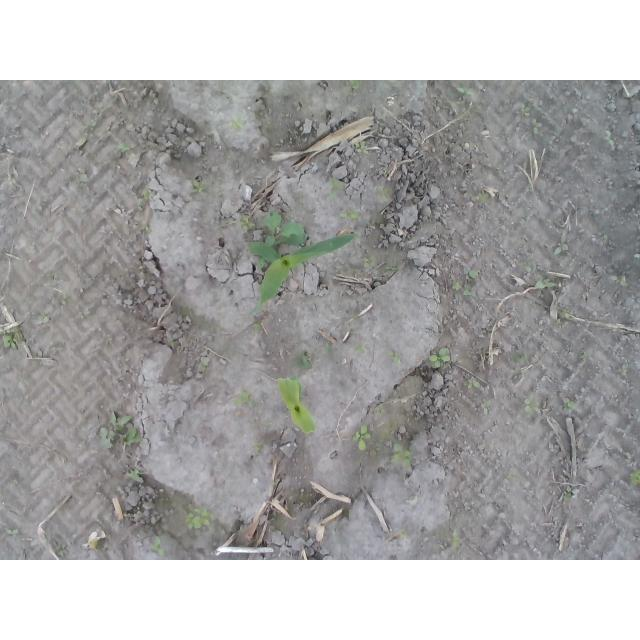Maize: (249, 231, 359, 316), (275, 375, 317, 434)
Weeds: (258, 208, 311, 275), (100, 410, 142, 451), (183, 503, 217, 529), (0, 329, 24, 352), (327, 174, 345, 203), (429, 347, 451, 370), (393, 442, 411, 470), (352, 423, 370, 451), (232, 388, 256, 408), (336, 207, 361, 223), (151, 535, 167, 557), (551, 239, 570, 257), (295, 351, 313, 370), (457, 80, 475, 97), (520, 398, 537, 416), (239, 215, 256, 232), (609, 272, 627, 288), (375, 185, 393, 200), (463, 378, 481, 393), (387, 351, 402, 369), (192, 177, 209, 192), (535, 276, 554, 289), (126, 465, 142, 480), (560, 399, 577, 413), (449, 532, 463, 549), (628, 468, 640, 487), (464, 268, 481, 281), (512, 352, 529, 365), (557, 307, 568, 326), (364, 255, 377, 271), (598, 224, 609, 241), (252, 441, 264, 456), (354, 140, 368, 152), (478, 191, 490, 205), (352, 80, 369, 89), (577, 350, 591, 360), (55, 543, 65, 557), (372, 406, 384, 417), (354, 343, 366, 354), (464, 286, 477, 296), (38, 311, 50, 321), (231, 119, 241, 130), (385, 265, 400, 272), (119, 143, 129, 153), (197, 359, 207, 369), (323, 343, 333, 353), (62, 295, 72, 305), (564, 487, 573, 498), (520, 103, 529, 113), (452, 279, 461, 289), (144, 191, 153, 201), (400, 529, 409, 539), (143, 224, 151, 233), (88, 120, 96, 128), (80, 175, 88, 183)
